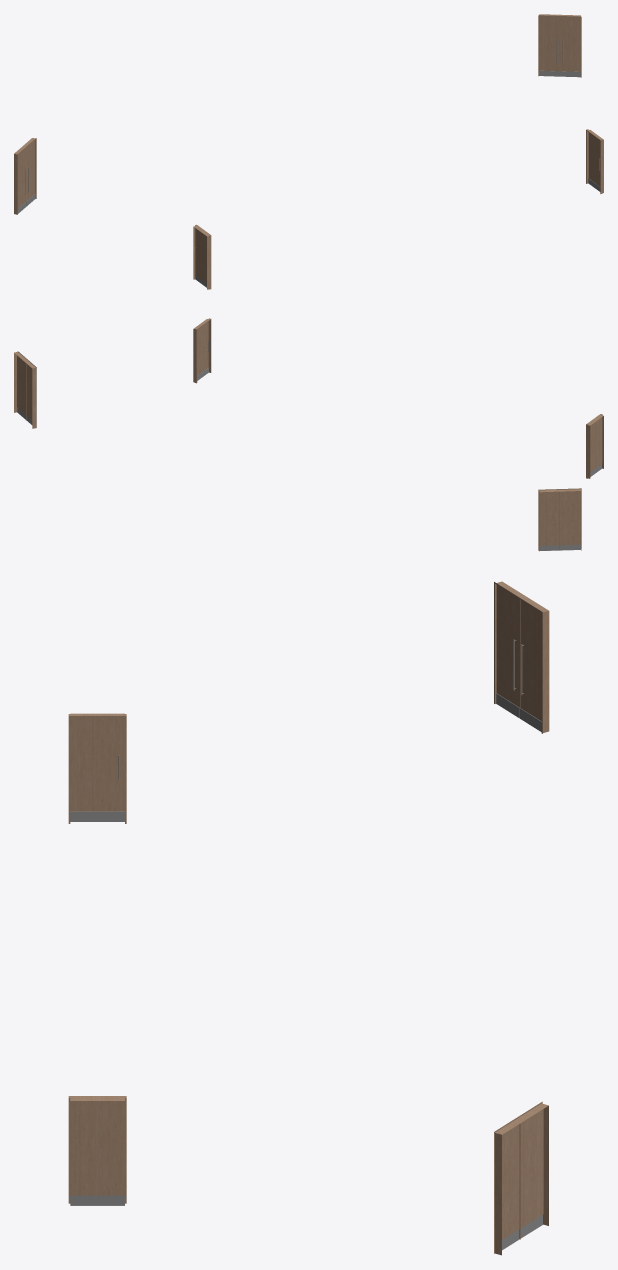
Rendered from ULT_Exit_Doors.FBX.
The picture shows the model from 3 angles, top to bottom: view 1: azimuth 30°, elevation 25°; view 2: azimuth 150°, elevation 25°; view 3: azimuth 270°, elevation 25°; orthographic projection. The views are drawn at different scales.
Parts seen in each view (by area): view 1: ULT_Door_Exit_Back02, ULT_Door_Exit_Back01, ULT_Door_Exit_Side02, ULT_Door_Exit_Side01; view 2: ULT_Door_Exit_Back01, ULT_Door_Exit_Back02, ULT_Door_Exit_Side01, ULT_Door_Exit_Side02; view 3: ULT_Door_Exit_Back01, ULT_Door_Exit_Back02, ULT_Door_Exit_Side01, ULT_Door_Exit_Side02.
Part boxes in pixels (box(x1,y1,x2,y2)): ULT_Door_Exit_Back02: box(538, 14, 581, 77); ULT_Door_Exit_Back01: box(14, 138, 36, 214); ULT_Door_Exit_Side02: box(193, 224, 211, 289); ULT_Door_Exit_Side01: box(586, 129, 603, 193); ULT_Door_Exit_Back01: box(538, 488, 581, 551); ULT_Door_Exit_Back02: box(14, 351, 36, 428); ULT_Door_Exit_Side01: box(193, 318, 211, 383); ULT_Door_Exit_Side02: box(586, 414, 603, 478); ULT_Door_Exit_Back01: box(494, 581, 549, 733); ULT_Door_Exit_Back02: box(494, 1101, 548, 1255); ULT_Door_Exit_Side01: box(68, 1096, 126, 1205); ULT_Door_Exit_Side02: box(68, 713, 126, 823).
Bounding box in the file's own units: 39150 × 5180 × 14363.
